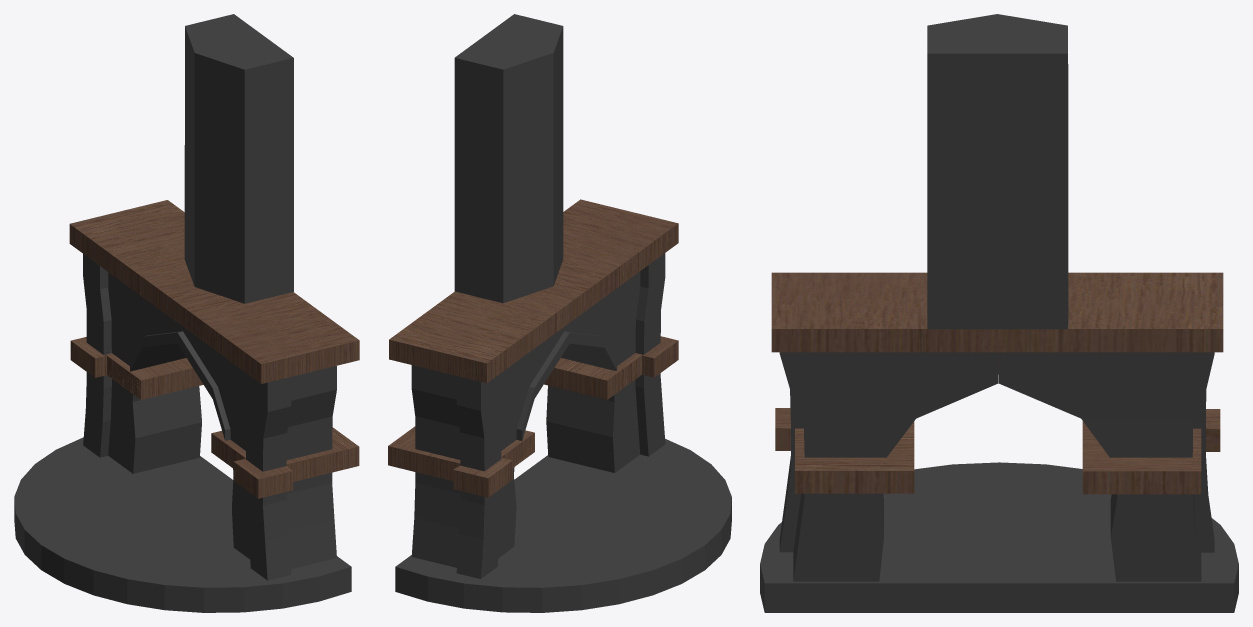
The model's file is камин.fbx.
3 renders of one model, left to right at view 1: azimuth 30°, elevation 25°; view 2: azimuth 150°, elevation 25°; view 3: azimuth 270°, elevation 25°, orthographic. The views are drawn at different scales.
Parts seen in each view (by area): view 1: Cube.004; view 2: Cube.004; view 3: Cube.004.
Part boxes in pixels (x1,y1,x2,y2): Cube.004: [14, 14, 359, 612]; Cube.004: [388, 14, 731, 612]; Cube.004: [760, 14, 1238, 612].
Bounding box in the file's own units: 553 × 1095 × 840.
2 materials, 1 textured.
